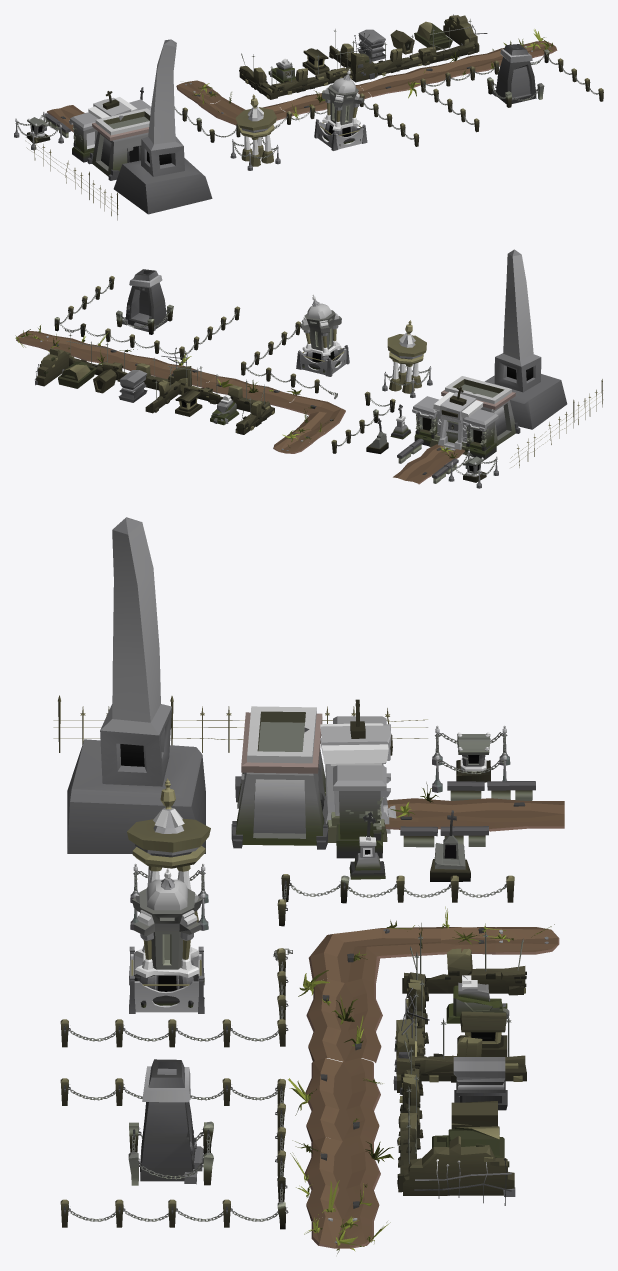
File: NecroPOLY_Chunk_02d.fbx
3 renders of one model, top to bottom at view 1: azimuth 30°, elevation 25°; view 2: azimuth 150°, elevation 25°; view 3: azimuth 270°, elevation 25°, orthographic. The views are drawn at different scales.
Parts seen in each view (by area): view 1: NecroPOLY_Chunk_02d_LOD0; view 2: NecroPOLY_Chunk_02d_LOD0; view 3: NecroPOLY_Chunk_02d_LOD0.
Boxes of the visible parts, box(x1,y1,x2,y2) form: NecroPOLY_Chunk_02d_LOD0: box(14, 14, 603, 220); NecroPOLY_Chunk_02d_LOD0: box(15, 249, 603, 488); NecroPOLY_Chunk_02d_LOD0: box(53, 517, 564, 1253).
Size of what is drawn, in the model's own units: 94.02 by 28.26 by 40.93.
